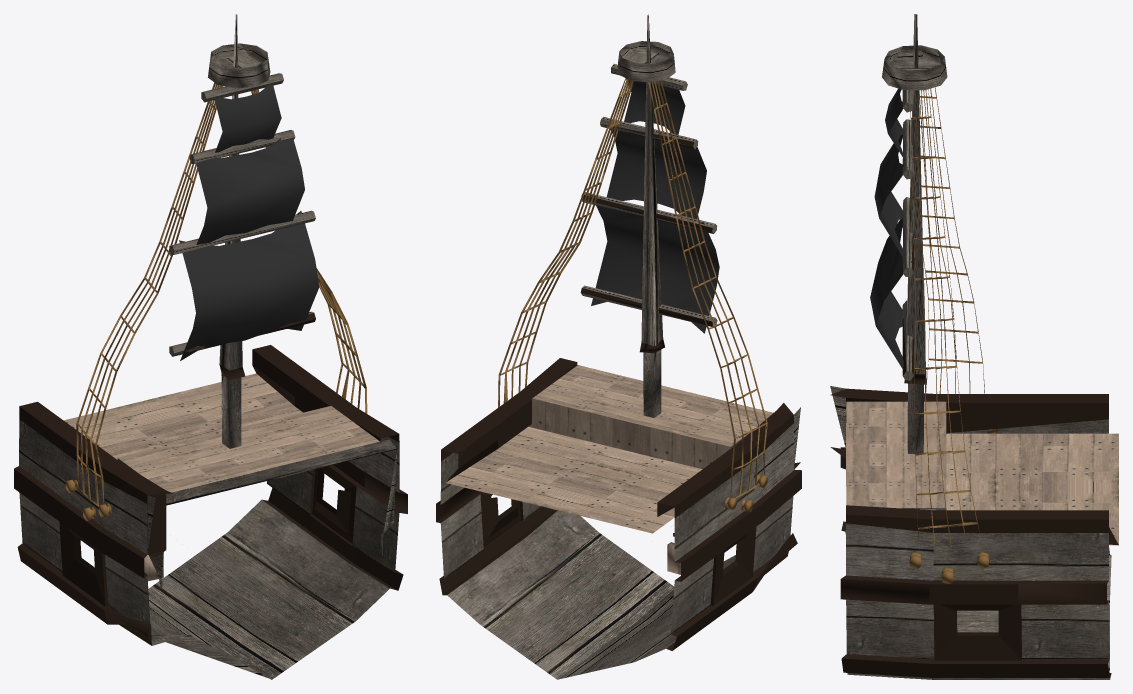
Rendered from Windward-Shipwreck2-Centered.glb.
3 views of the same model, side by side, from view 1: azimuth 30°, elevation 25°; view 2: azimuth 150°, elevation 25°; view 3: azimuth 270°, elevation 25° (orthographic). The views are drawn at different scales.
Visible parts, largest first — view 1: Plane.004; view 2: Plane.004; view 3: Plane.004.
Part boxes in pixels (x1,y1,x2,y2): Plane.004: (14, 14, 407, 679); Plane.004: (436, 14, 801, 679); Plane.004: (830, 14, 1118, 679).
Bounding box in the file's own units: 3.3 × 7.42 × 2.93.
Materials: 5 (2 with a texture image).
